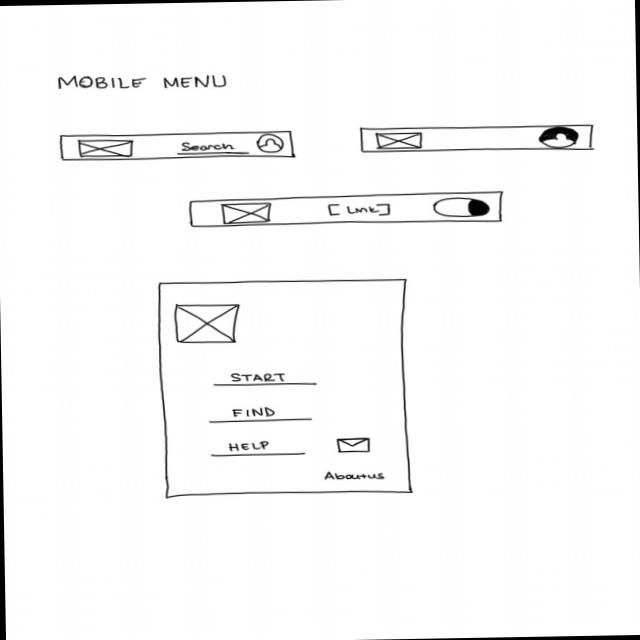image: (173, 302, 243, 346), (220, 202, 274, 225), (77, 139, 136, 159), (376, 132, 425, 151)
input: (175, 141, 251, 157)
label: (57, 71, 231, 93)
link: (326, 203, 394, 219)
